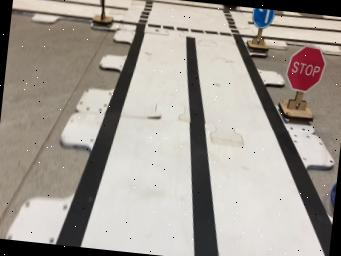left: (247, 8, 275, 52), (247, 8, 275, 52)
stop: (278, 46, 325, 121), (278, 46, 325, 121)
street: (57, 0, 332, 256), (57, 0, 332, 256), (262, 15, 341, 46), (262, 15, 341, 46), (12, 0, 100, 19), (12, 0, 100, 19)
